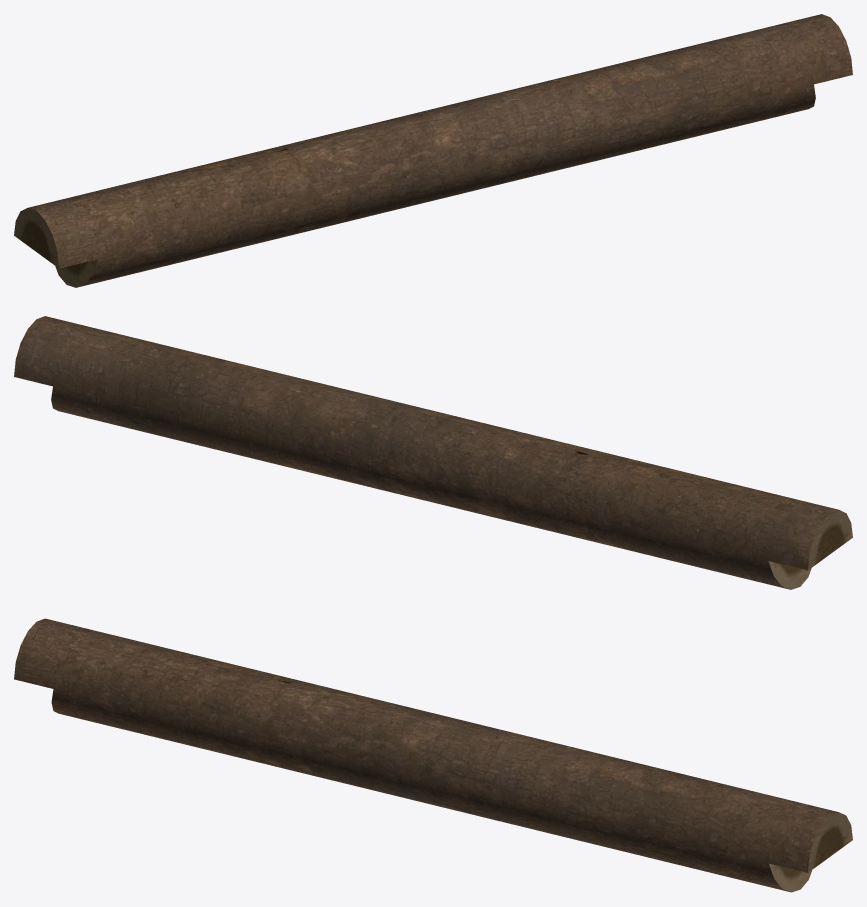
File: ThreeSupportBB.glb
The picture shows the model from 3 angles, top to bottom: view 1: azimuth 30°, elevation 25°; view 2: azimuth 150°, elevation 25°; view 3: azimuth 330°, elevation 25°; orthographic projection.
Visible parts, largest first — view 1: ThreeSupportBB; view 2: ThreeSupportBB; view 3: ThreeSupportBB.
Boxes of the visible parts, x1,y1,x2,y2 form: ThreeSupportBB: [14, 14, 852, 287]; ThreeSupportBB: [14, 316, 852, 589]; ThreeSupportBB: [14, 618, 852, 892].
Size of the model in its own units: 2.03 by 0.1986 by 0.2.
Materials: 1 (1 with a texture image).
